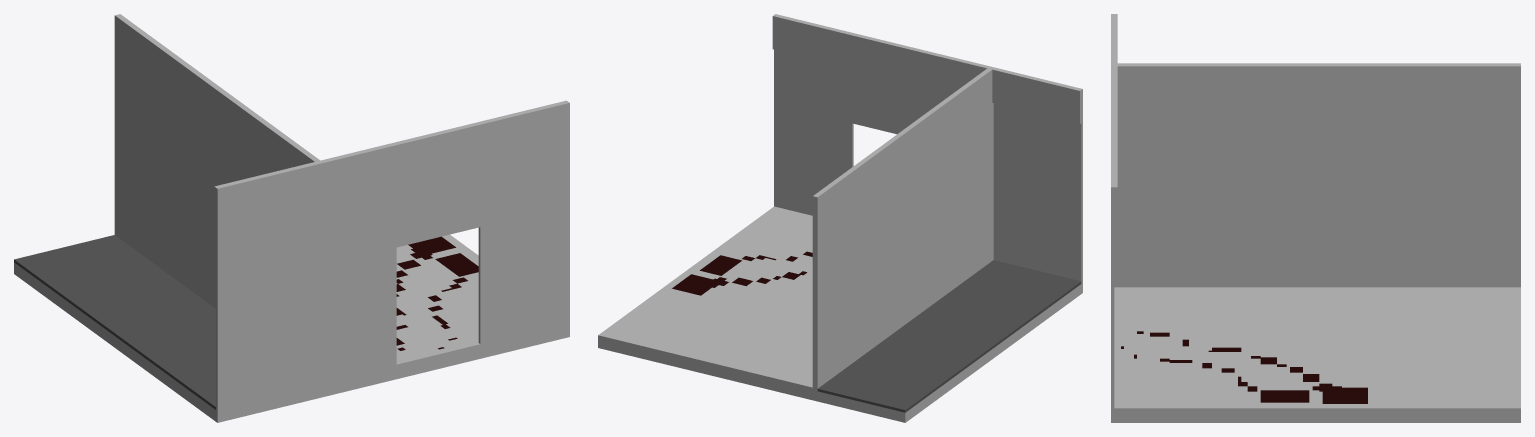
Rendered from 4x2 first (1)-3.obj.
The picture shows the model from 3 angles, left to right: view 1: azimuth 30°, elevation 25°; view 2: azimuth 150°, elevation 25°; view 3: azimuth 270°, elevation 25°; orthographic projection. The views are drawn at different scales.
Visible parts, largest first — view 1: 4x2 first (1)-3; view 2: 4x2 first (1)-3; view 3: 4x2 first (1)-3.
Boxes of the visible parts, left/top/right/bottom form: 4x2 first (1)-3: left=14, top=14, right=569, bottom=422; 4x2 first (1)-3: left=598, top=14, right=1082, bottom=422; 4x2 first (1)-3: left=1111, top=14, right=1520, bottom=422.
Bounding box in the file's own units: 126 × 80 × 126.
1 material, 1 textured.
